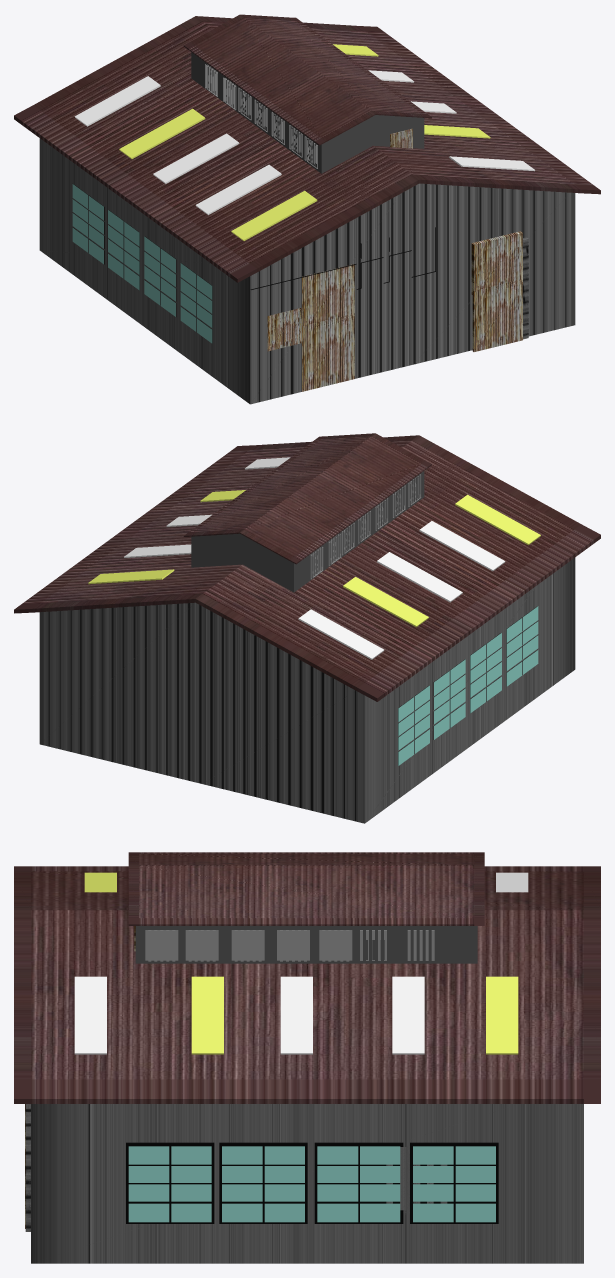
File: CASA GRANDE.glb
The picture shows the model from 3 angles, top to bottom: view 1: azimuth 30°, elevation 25°; view 2: azimuth 150°, elevation 25°; view 3: azimuth 270°, elevation 25°; orthographic projection. The views are drawn at different scales.
Parts seen in each view (by area): view 1: plane ot, Plane.001, Plane.005, Plane.009, Plane.004, Plane.002, Plane.010, plane ot.001, Plane.003, ventana.002, Plane.006, Cube; view 2: plane ot, Plane.001, Plane.005, Plane.009, Plane.004, plane ot.001, Plane.003, ventana.002; view 3: Plane.001, plane ot, Plane.008, Plane.005, Plane.003, plane ot.001, ventana.001, Plane.004, Cube.
Part boxes in pixels (x1,y1,x2,y2): plane ot: (39, 138, 575, 404); Plane.001: (14, 16, 600, 282); Plane.005: (183, 14, 431, 145); Plane.009: (72, 184, 212, 343); Plane.004: (74, 76, 317, 240); Plane.002: (302, 264, 354, 391); Plane.010: (471, 231, 522, 351); plane ot.001: (191, 52, 424, 173); Plane.003: (333, 44, 534, 171); ventana.002: (205, 64, 317, 168); Plane.006: (267, 308, 301, 351); Cube: (523, 237, 528, 339); plane ot: (39, 557, 575, 823); Plane.001: (14, 435, 600, 701); Plane.005: (183, 433, 431, 564); Plane.009: (398, 606, 538, 765); Plane.004: (298, 494, 540, 659); plane ot.001: (191, 471, 424, 592); Plane.003: (88, 457, 290, 584); ventana.002: (310, 474, 421, 579); Plane.001: (14, 866, 600, 1103); plane ot: (31, 1104, 583, 1263); Plane.008: (126, 1142, 498, 1223); Plane.005: (128, 852, 484, 925); Plane.003: (74, 976, 518, 1054); plane ot.001: (135, 926, 477, 963); ventana.001: (145, 930, 434, 961); Plane.004: (84, 872, 528, 892); Cube: (25, 1104, 30, 1231).
Bounding box in the file's own units: 2.47 × 1.45 × 2.63.
Materials: 11 (4 with a texture image).
